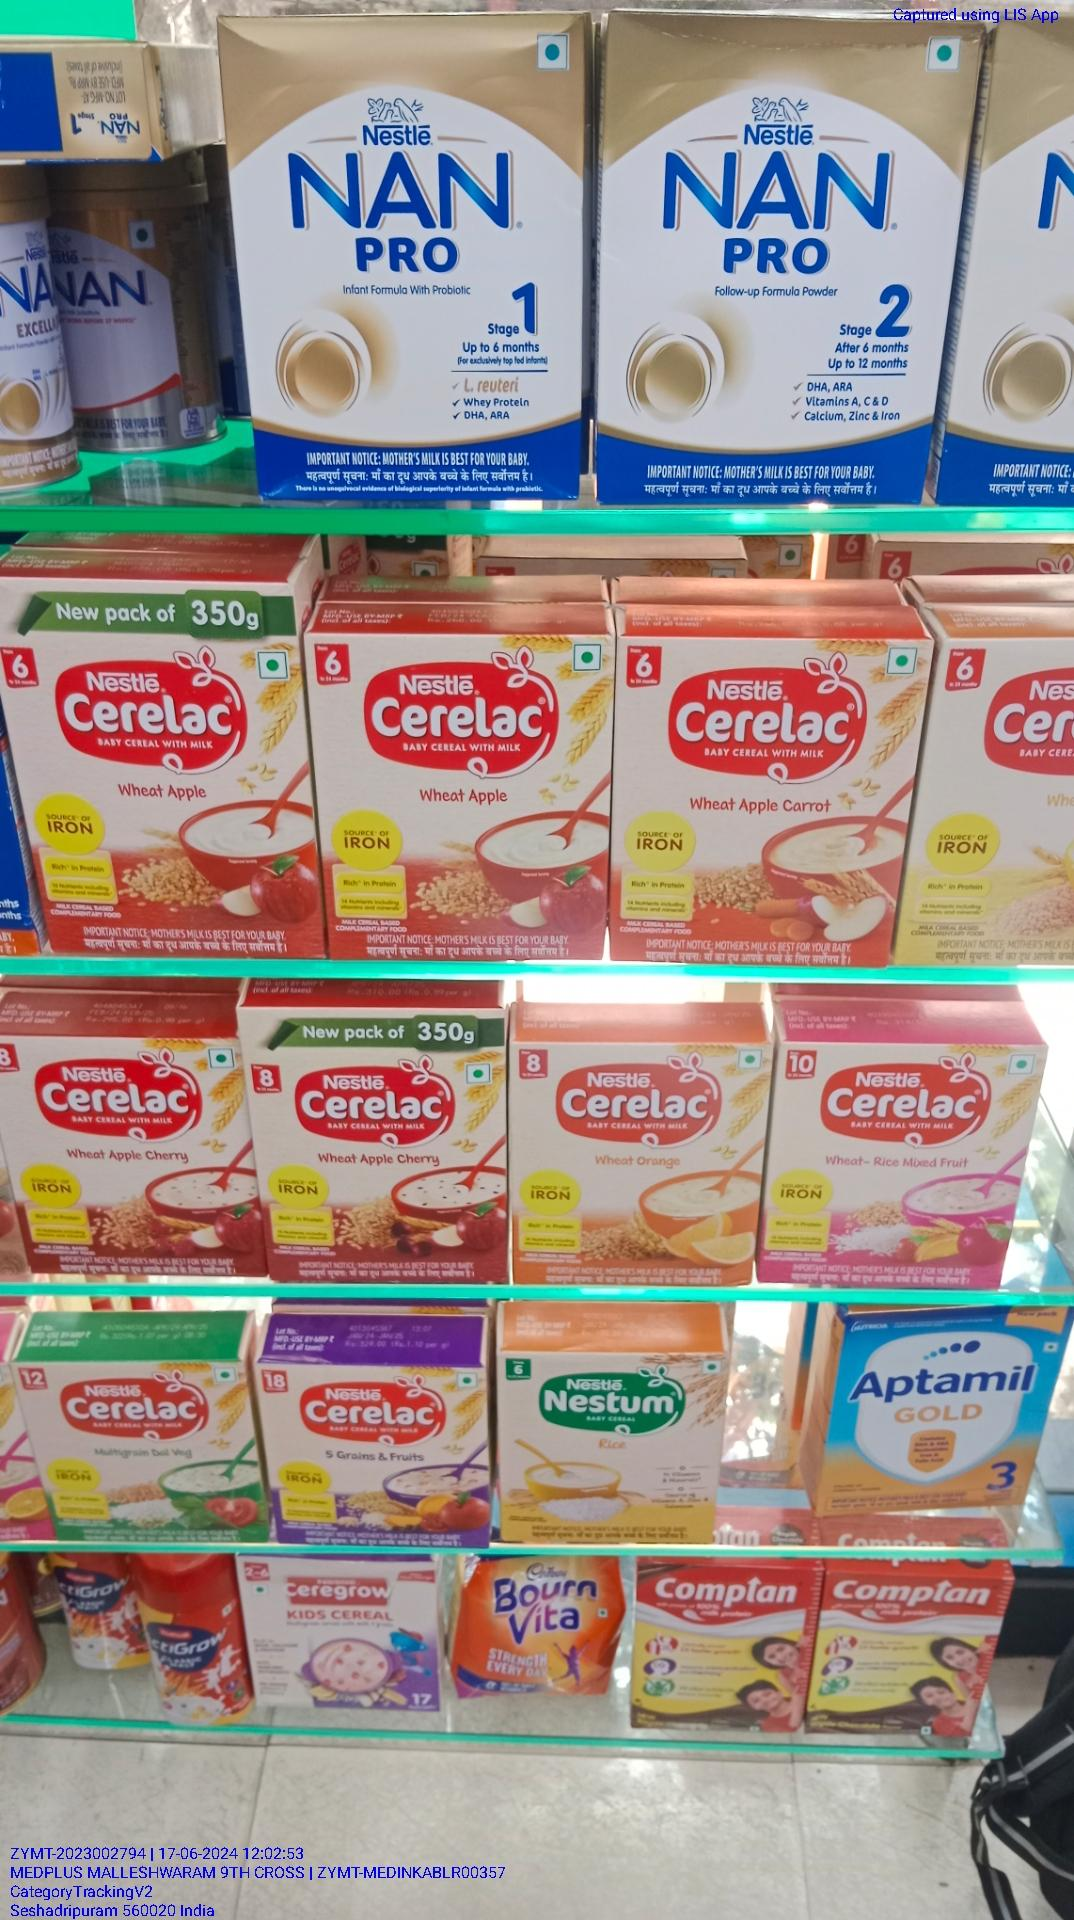BOURN_VITA_500_G_POUCH: (460, 1552, 612, 1704)
COMPLAN_CHOCOLATE_500_GMS_PACK: (632, 1561, 807, 1735), (818, 1568, 983, 1749)
